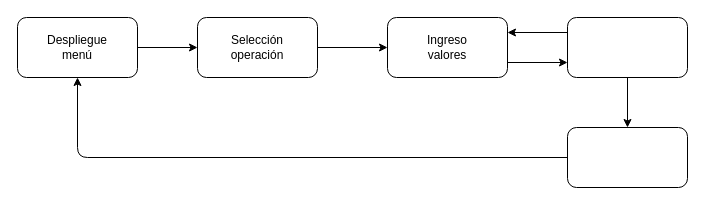
Image size: 705x205. Some labels were removed from this diagram. The shapes that lost their labels are listed below. From the top down, each one's centre as x and y in pixels, then its label:
At [627,47]: "Validación".
At [627,157]: "Muestra resultados".
